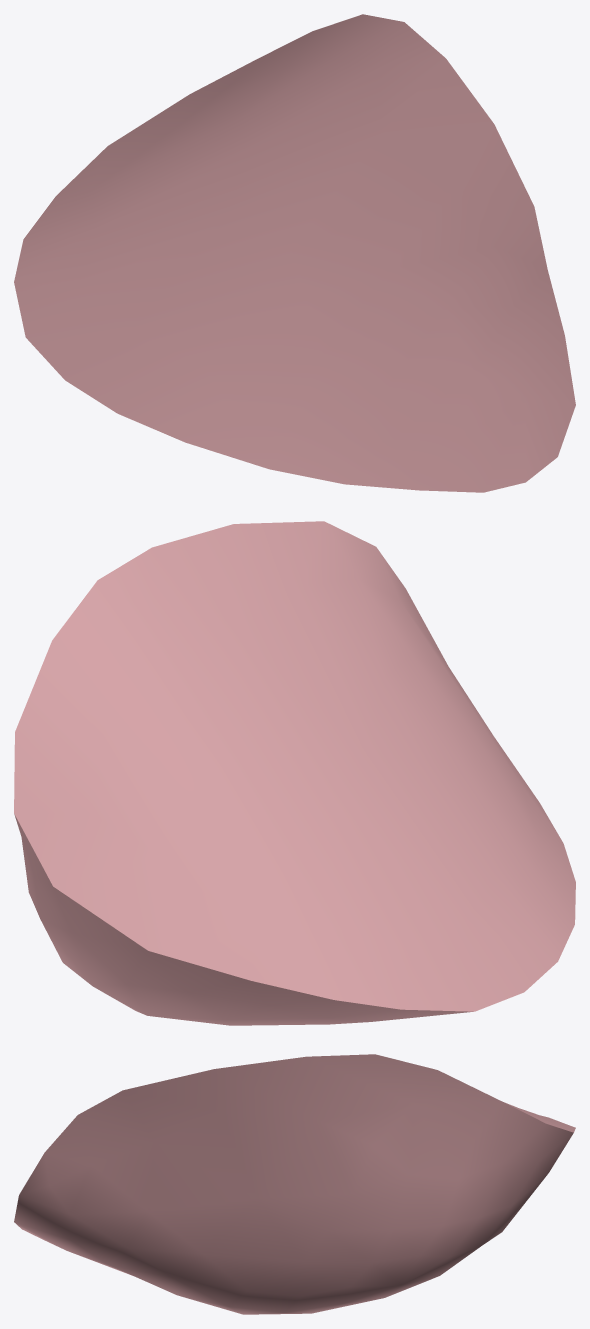
The model's file is fma82510_mm1604m.glb.
3 renders of one model, top to bottom at view 1: azimuth 30°, elevation 25°; view 2: azimuth 150°, elevation 25°; view 3: azimuth 270°, elevation 25°, orthographic. The views are drawn at different scales.
Parts seen in each view (by area): view 1: FMA82510_MM1604M; view 2: FMA82510_MM1604M; view 3: FMA82510_MM1604M.
Boxes of the visible parts, x1=… form: FMA82510_MM1604M: x1=14, y1=14, x2=575, y2=492; FMA82510_MM1604M: x1=14, y1=521, x2=575, y2=1025; FMA82510_MM1604M: x1=14, y1=1054, x2=575, y2=1314.
Bounding box in the file's own units: 0.00987 × 0.00924 × 0.0167.
